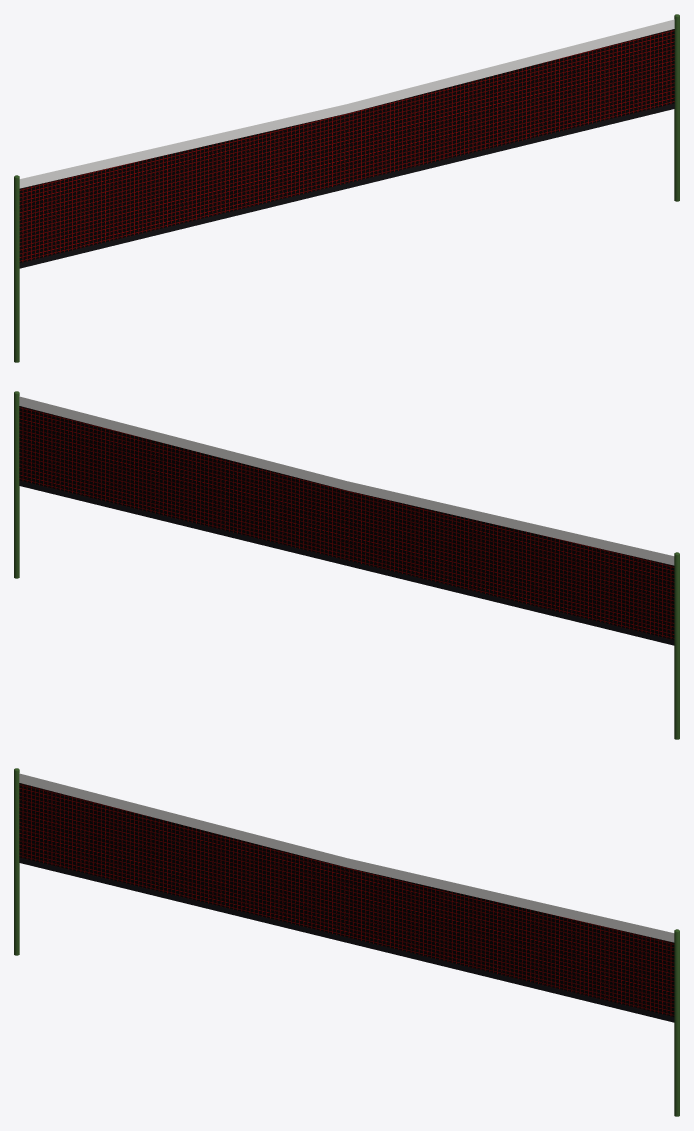
The model's file is 0a3cf9de-ed1b-46aa-add1-db256233174f.glb.
3 renders of one model, top to bottom at view 1: azimuth 30°, elevation 25°; view 2: azimuth 150°, elevation 25°; view 3: azimuth 330°, elevation 25°, orthographic.
Visible parts, largest first — view 1: Net01, Net02, Poles.001; view 2: Net01, Net02, Poles.001; view 3: Net01, Net02, Poles.001.
Part boxes in pixels (x1,y1,x2,y2): Net01: [19, 29, 674, 262]; Net02: [19, 19, 674, 268]; Poles.001: [14, 14, 679, 362]; Net01: [19, 406, 674, 639]; Net02: [19, 396, 674, 645]; Poles.001: [14, 391, 679, 739]; Net01: [19, 783, 674, 1016]; Net02: [19, 773, 674, 1022]; Poles.001: [14, 768, 679, 1116].
Size of what is drawn, in the model's own units: 6.23 by 1.66 by 0.0473.
2 materials, 2 textured.
